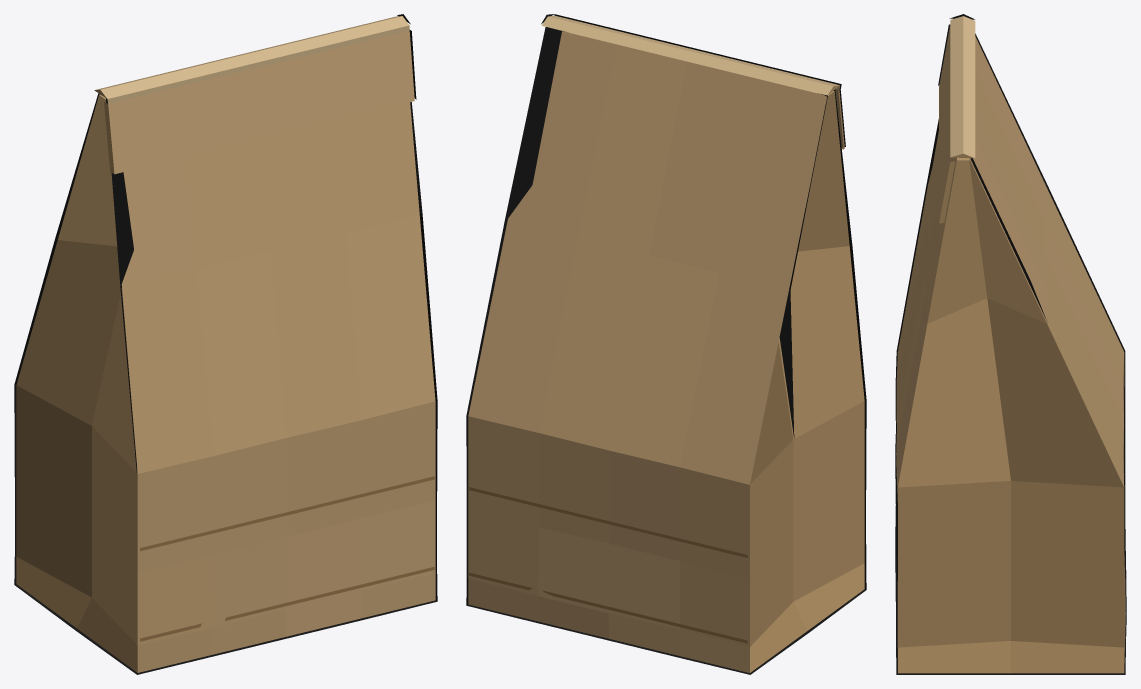
Rendered from Kese_orta.fbx.
3 renders of one model, left to right at view 1: azimuth 30°, elevation 25°; view 2: azimuth 150°, elevation 25°; view 3: azimuth 270°, elevation 25°, orthographic. The views are drawn at different scales.
Visible parts, largest first — view 1: Kese_orta; view 2: Kese_orta; view 3: Kese_orta.
Boxes of the visible parts, box(x1,y1,x2,y2) form: Kese_orta: box(14, 14, 437, 674); Kese_orta: box(466, 14, 866, 674); Kese_orta: box(895, 14, 1126, 674).
Bounding box in the file's own units: 0.1741 × 0.306 × 0.1228.
